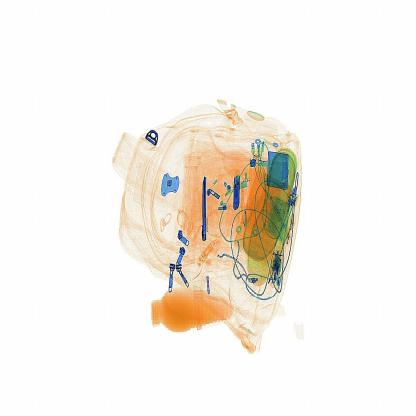pliers: (196, 170, 215, 247)
